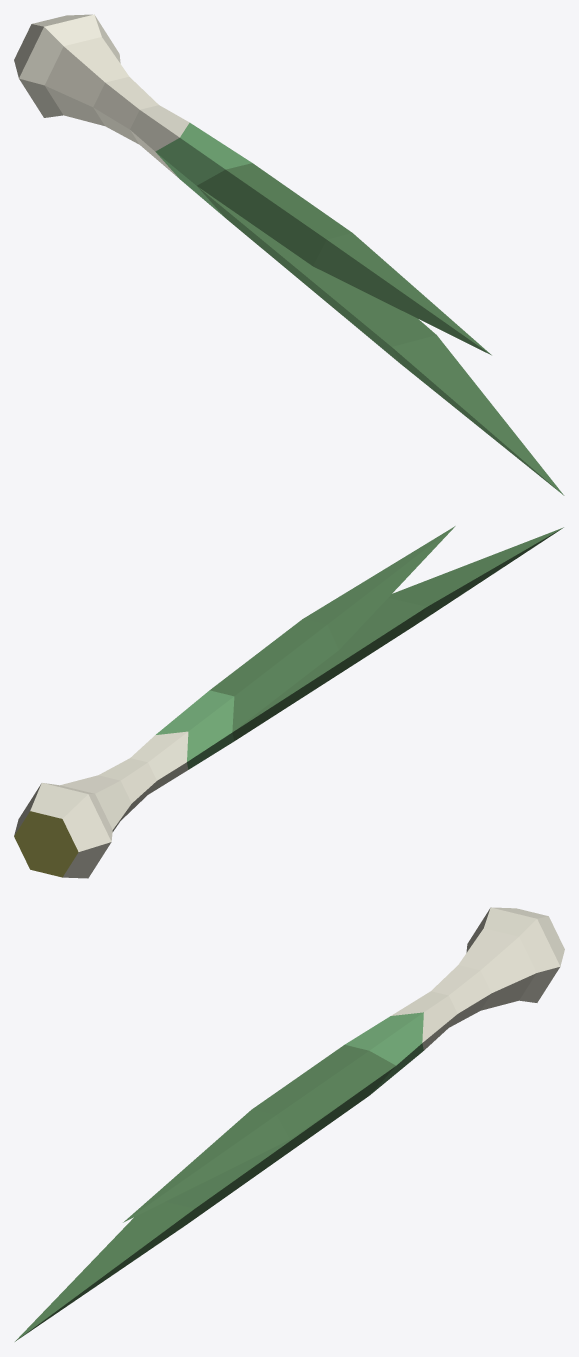
The picture shows the model from 3 angles, top to bottom: view 1: azimuth 30°, elevation 25°; view 2: azimuth 150°, elevation 25°; view 3: azimuth 330°, elevation 25°; orthographic projection. The views are drawn at different scales.
Parts seen in each view (by area): view 1: 葱_1__pPrism1; view 2: 葱_1__pPrism1; view 3: 葱_1__pPrism1.
Boxes of the visible parts, left/top/right/bottom form: 葱_1__pPrism1: left=14, top=14, right=564, bottom=495; 葱_1__pPrism1: left=14, top=526, right=563, bottom=878; 葱_1__pPrism1: left=15, top=907, right=564, bottom=1341.
Bounding box in the file's own units: 4.81 × 4.16 × 44.48.
Materials: 1 (1 with a texture image).
